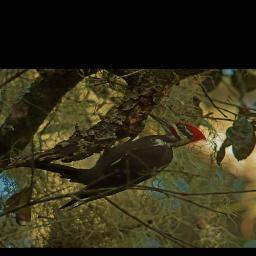Woodpecker: (55, 113, 208, 211)
